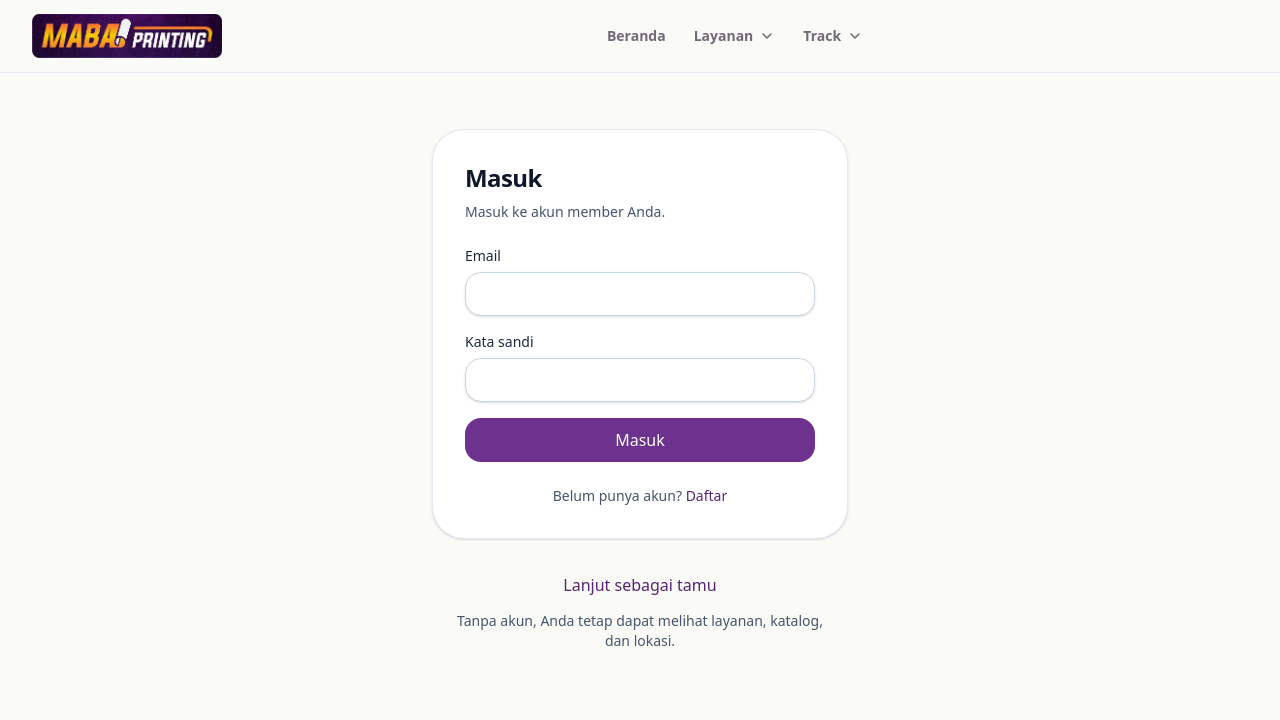
Test: Login page › disables the submit button while signing in
Expected: the heading "Masuk" is shown, [465,161,542,194]
Type "ana@example.test" into the field labelled "Email" at (640, 294), box [465,272,815,316]
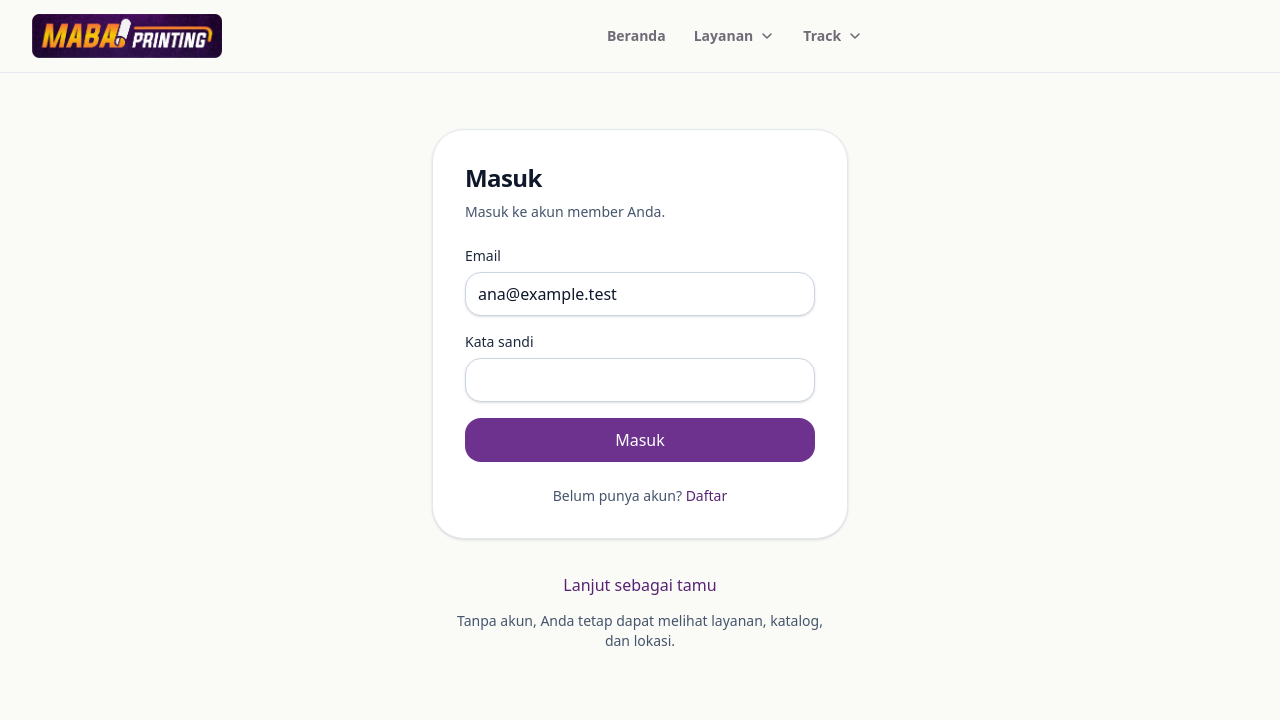
Type "secret password" into the password field labelled "Kata sandi" at (640, 380), box [465,358,815,402]
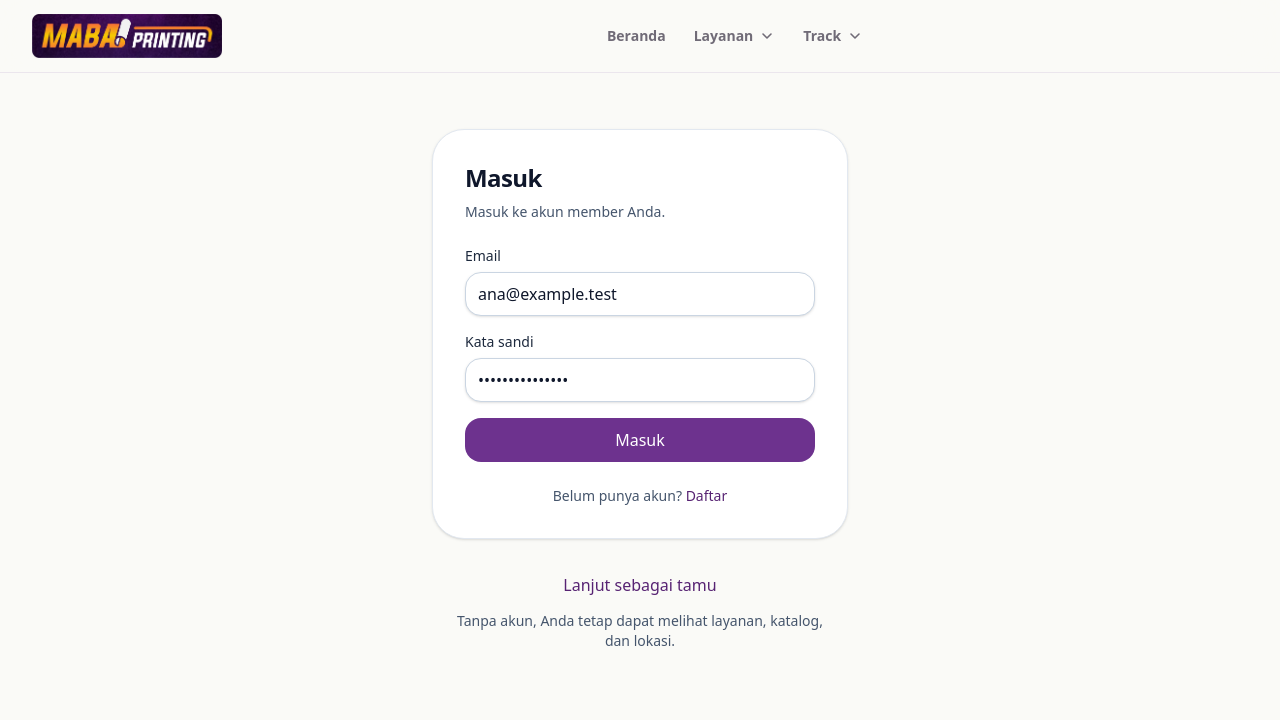
Click the button "Masuk" at (640, 440), box [465,418,815,462]
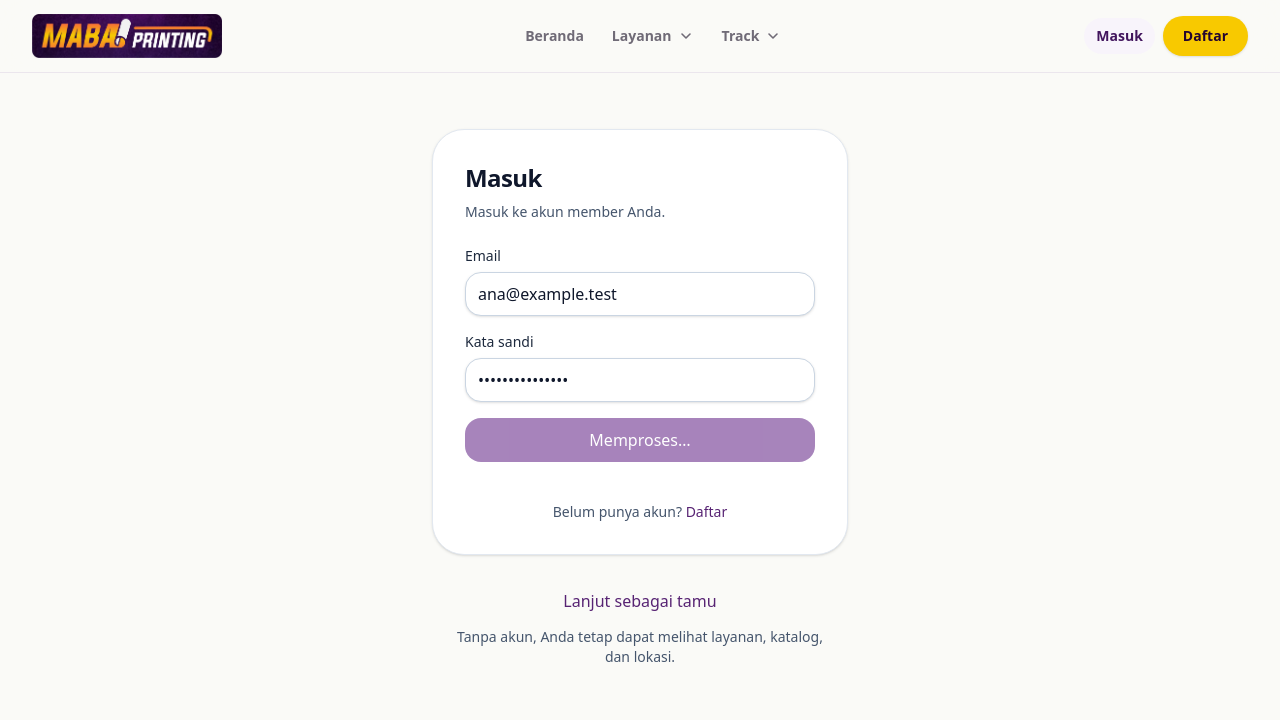
Expected: the button "Memproses…" is disabled, [465,418,815,462]
